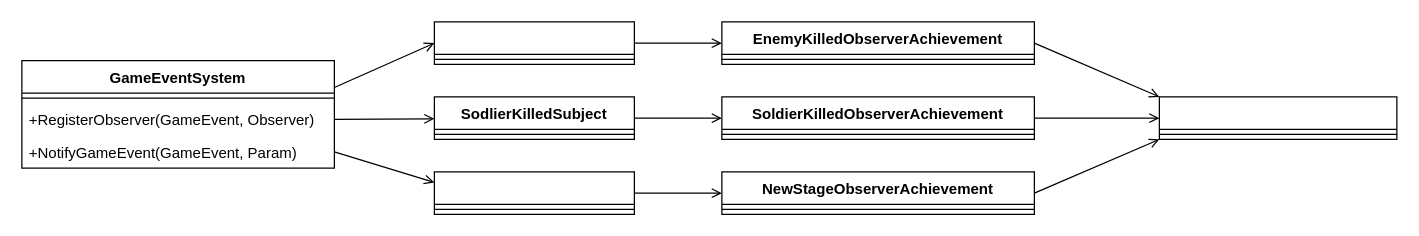
This 1419x236 diagram has some shape labels left out. The shapes that lost their labels are listed below. From the top down, each one's centre as x and y in pixels, then its label:
point 533,42: EnemyKilledSubject
point 1277,117: AchievementSystem
point 533,192: NewStageSubject
